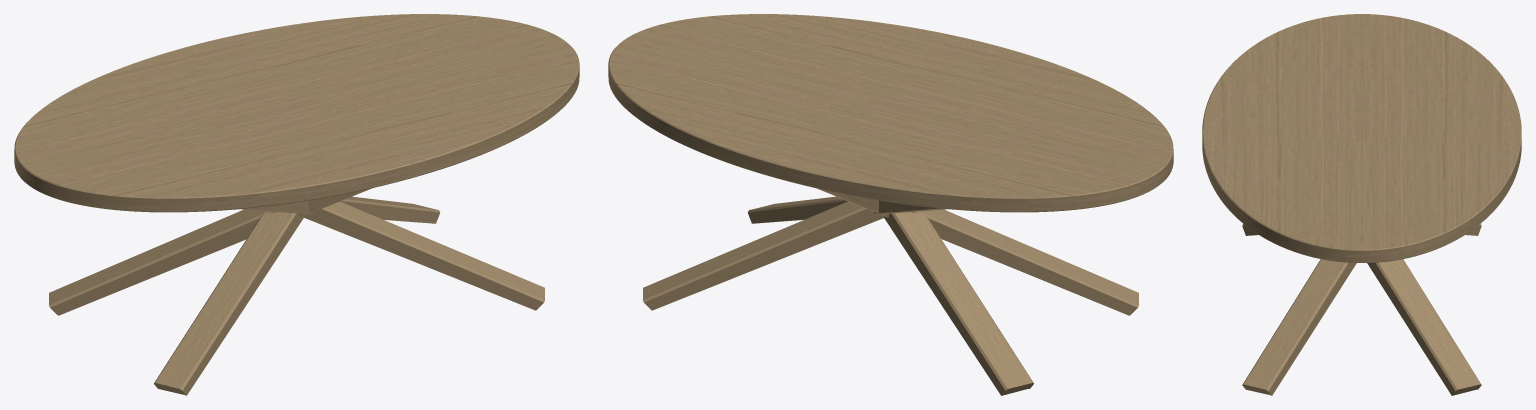
The model's file is ellipse-ash.glb.
3 renders of one model, left to right at view 1: azimuth 30°, elevation 25°; view 2: azimuth 150°, elevation 25°; view 3: azimuth 270°, elevation 25°, orthographic. The views are drawn at different scales.
Parts seen in each view (by area): view 1: Wood_Ellipse, Base_Ellipse; view 2: Wood_Ellipse, Base_Ellipse; view 3: Wood_Ellipse, Base_Ellipse.
Boxes of the visible parts, <box> form: Wood_Ellipse: <box>14,14,579,212</box>; Base_Ellipse: <box>49,188,544,395</box>; Wood_Ellipse: <box>608,14,1173,212</box>; Base_Ellipse: <box>643,188,1138,395</box>; Wood_Ellipse: <box>1202,14,1521,262</box>; Base_Ellipse: <box>1242,224,1481,395</box>.
Size of the model in its own units: 2.13 by 0.762 by 1.22.
Materials: 1 (1 with a texture image).
